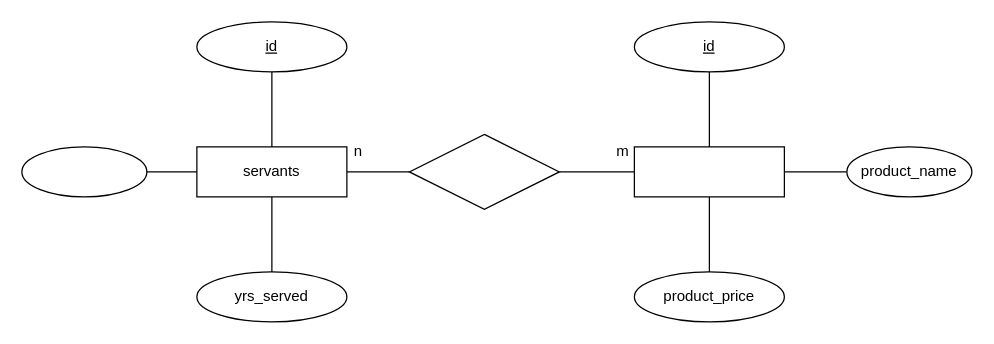
This 994x344 diagram has some shape labels left out. The shapes that lost their labels are listed below. From the top down, each one's centre as x and y in pixels, then its label:
At (x=84, y=171): "servant_name".
At (x=483, y=171): "purchases".
At (x=708, y=171): "products".
